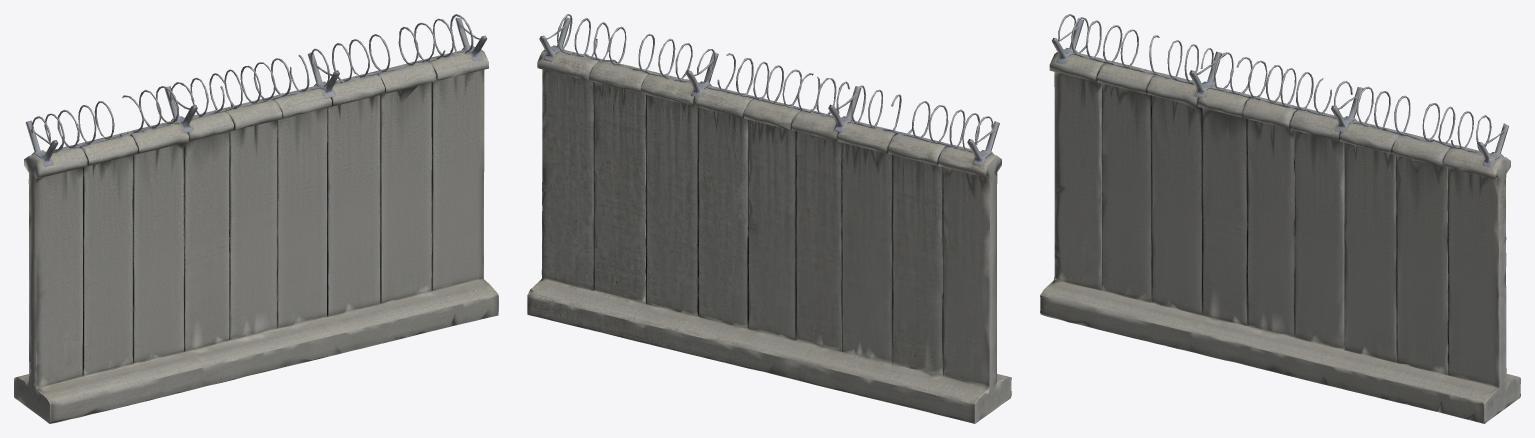
File: ConcreteWall.fbx
3 renders of one model, left to right at view 1: azimuth 30°, elevation 25°; view 2: azimuth 150°, elevation 25°; view 3: azimuth 330°, elevation 25°, orthographic.
Parts seen in each view (by area): view 1: tripo_node_6ae8bc81; view 2: tripo_node_6ae8bc81; view 3: tripo_node_6ae8bc81.
Boxes of the visible parts, x1,y1,x2,y2 form: tripo_node_6ae8bc81: [14, 14, 498, 423]; tripo_node_6ae8bc81: [527, 14, 1011, 423]; tripo_node_6ae8bc81: [1040, 14, 1520, 423].
Size of the model in its own units: 0.9799 by 0.6095 by 0.1397.
Materials: 1 (1 with a texture image).
